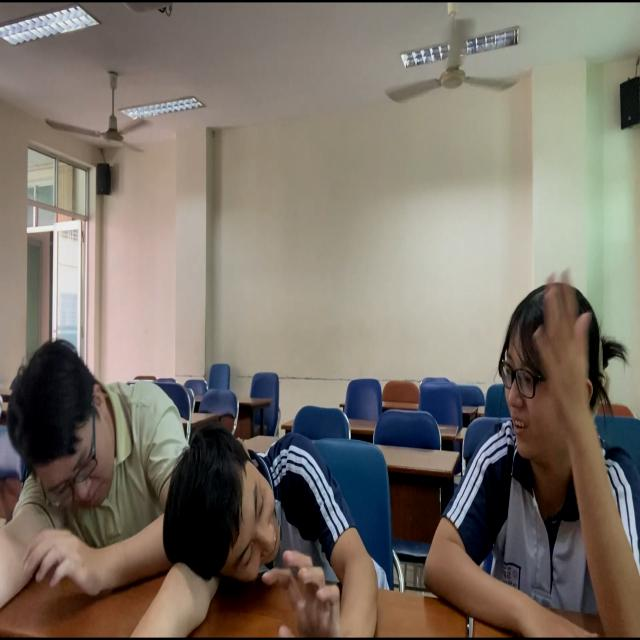sleep: (1, 329, 237, 634), (157, 424, 415, 640)
